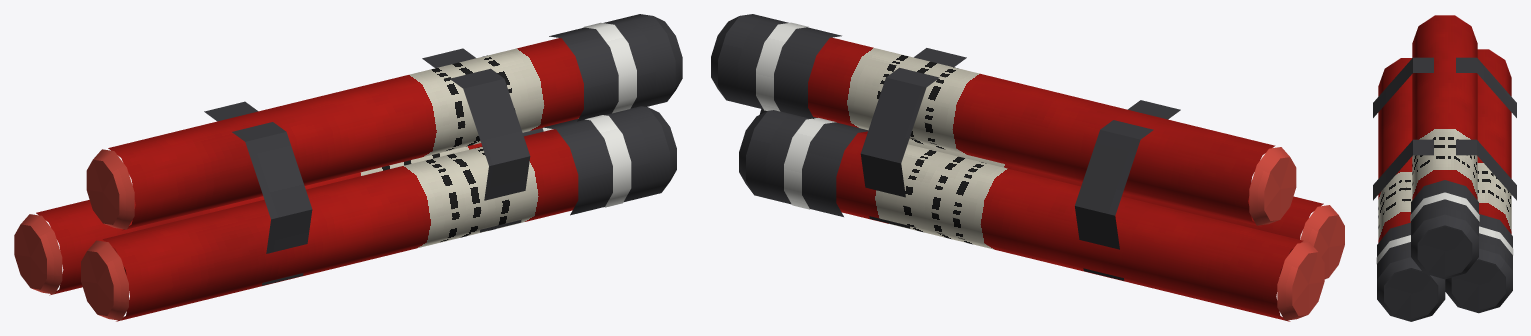
Rendered from item_flares.glb.
3 views of the same model, side by side, from view 1: azimuth 30°, elevation 25°; view 2: azimuth 150°, elevation 25°; view 3: azimuth 270°, elevation 25° (orthographic). The views are drawn at different scales.
Parts seen in each view (by area): view 1: flares; view 2: flares; view 3: flares.
Boxes of the visible parts, box(x1,y1,x2,y2) form: flares: box(14, 14, 682, 321); flares: box(711, 14, 1344, 321); flares: box(1373, 15, 1516, 321).
Size of the model in its own units: 0.267 by 0.0713 by 0.0702.
Materials: 4 (4 with a texture image).
